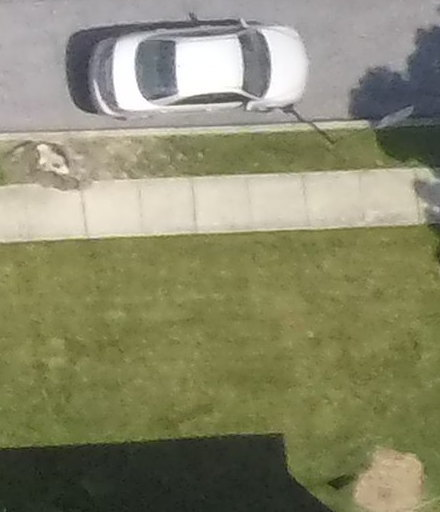car: (90, 12, 322, 124)
